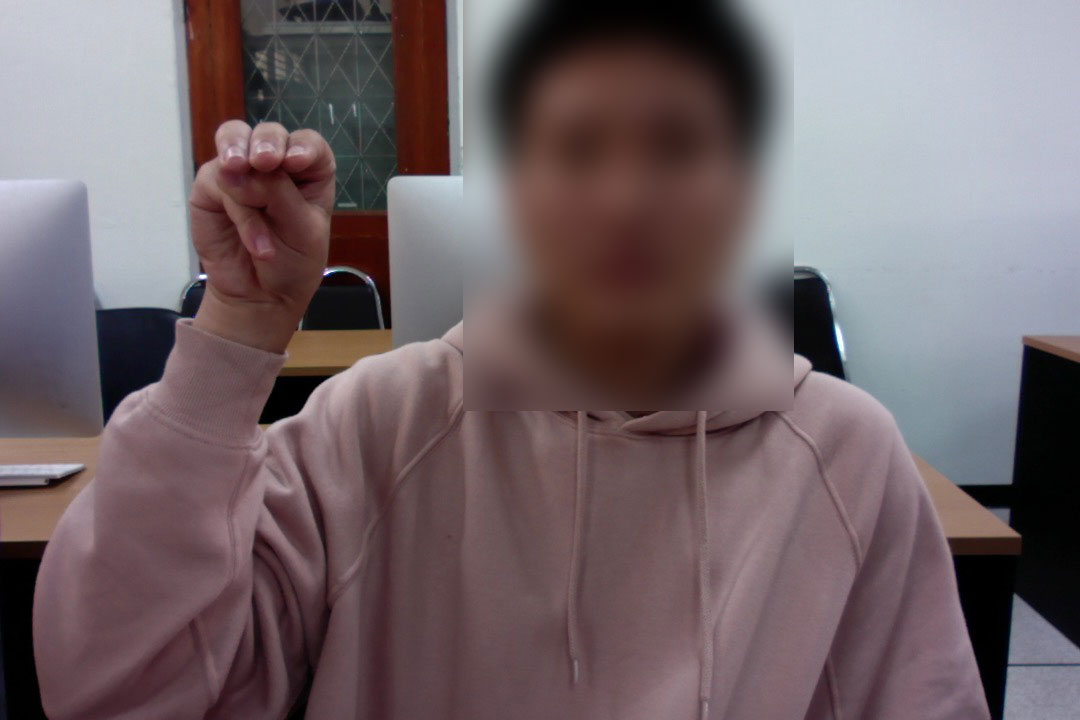mor: (175, 100, 349, 338)
